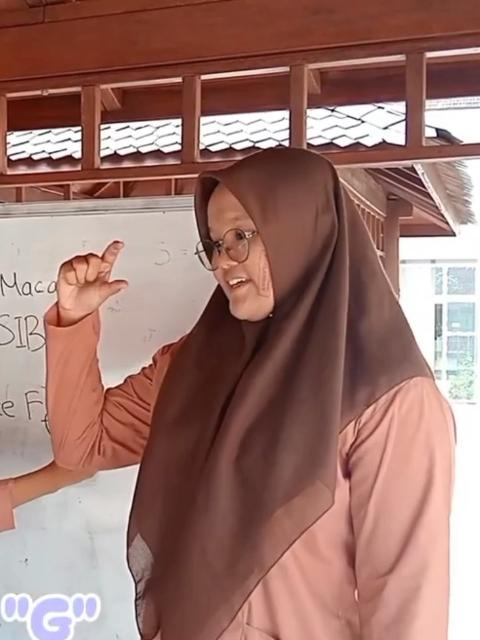G: (54, 236, 130, 310)
